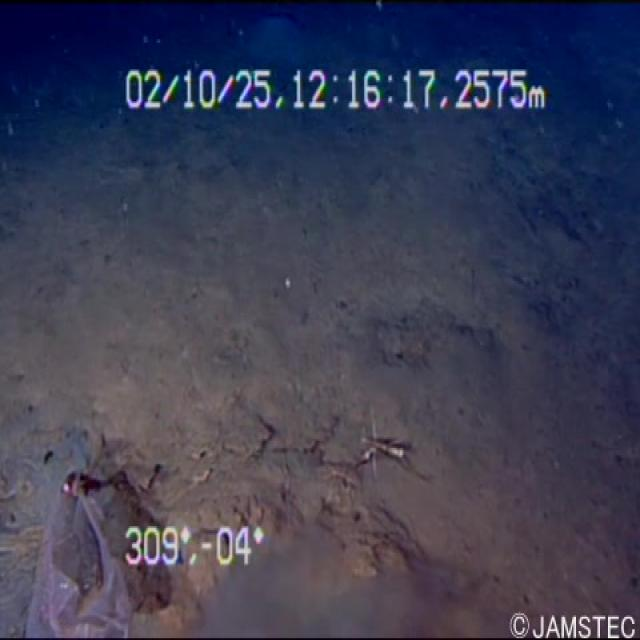plastic: (17, 418, 139, 638)
